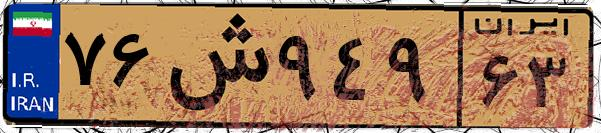3: (525, 38, 570, 115)
4: (330, 28, 385, 110)
6: (475, 38, 525, 113), (110, 28, 158, 98)
7: (57, 26, 110, 100)
9: (270, 28, 330, 110), (385, 28, 445, 110)
ش: (158, 12, 270, 120)
